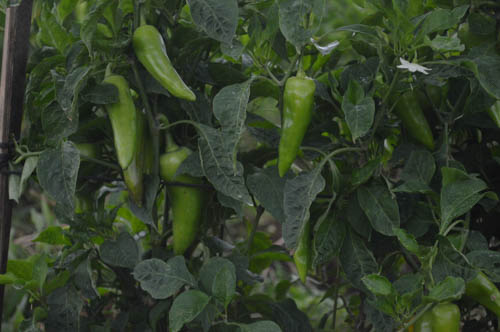ChiliPepper: (161, 153, 206, 256), (138, 27, 193, 100), (277, 79, 313, 180), (99, 78, 133, 165), (394, 93, 433, 143), (123, 110, 141, 191), (290, 220, 307, 283)
